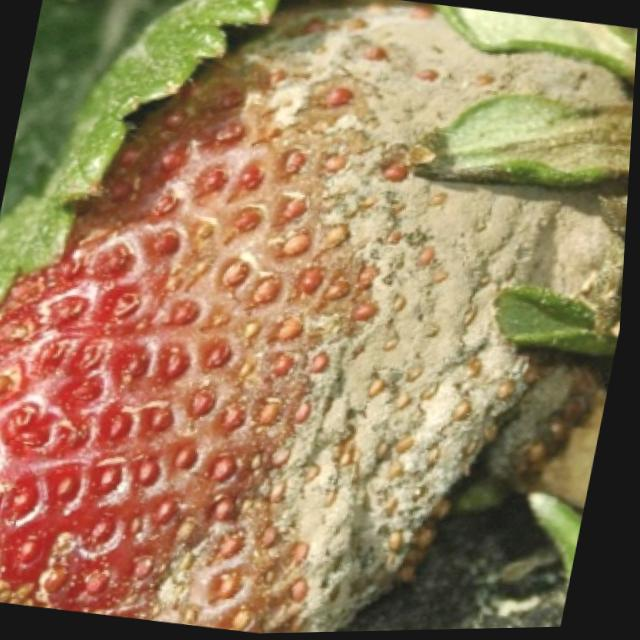Gray Mold: (0, 3, 638, 635)
